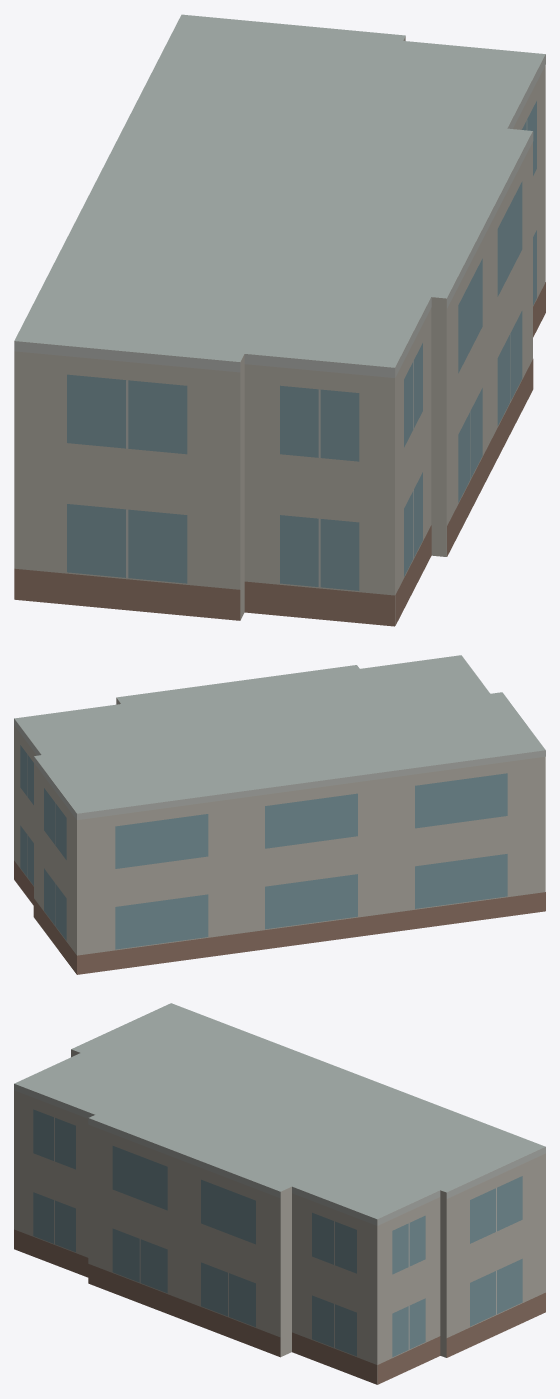
Rendered from survey-upis-32906342.glb.
3 views of the same model, one above another, from view 1: azimuth 30°, elevation 25°; view 2: azimuth 150°, elevation 25°; view 3: azimuth 270°, elevation 25° (orthographic). The views are drawn at different scales.
Parts seen in each view (by area): view 1: survey-upis-32906342.tmp; view 2: survey-upis-32906342.tmp; view 3: survey-upis-32906342.tmp.
Boxes of the visible parts, <box> form: survey-upis-32906342.tmp: <box>14,14,545,626</box>; survey-upis-32906342.tmp: <box>14,655,545,974</box>; survey-upis-32906342.tmp: <box>14,1003,545,1384</box>.
Size of the model in its own units: 17.11 by 6.1 by 17.77.
